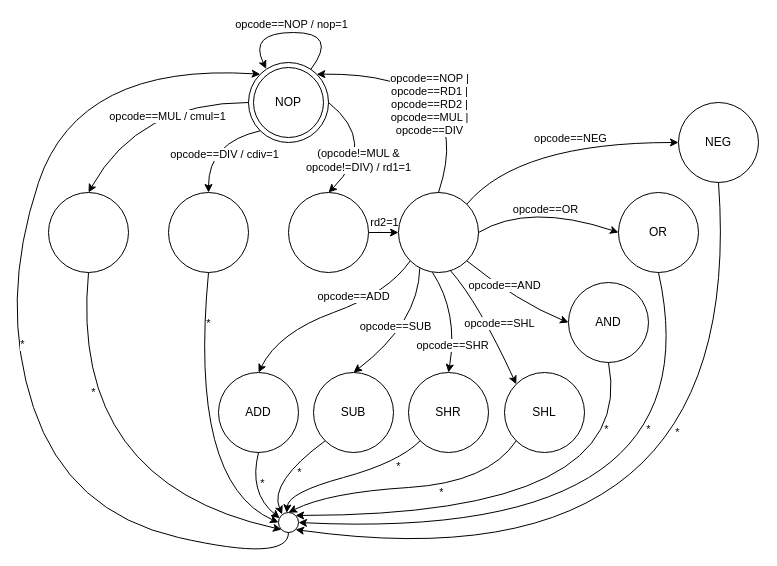
The diagram is 777 pixels wide and 566 high, and some of its shapes have lost their labels. The shapes that lost their labels are listed below. From the top down, each one's box as (x1, y1, x2, y2) in pixels, then its label:
(48, 192, 128, 272): MUL
(168, 192, 248, 272): DIV
(288, 192, 368, 272): RD1
(398, 192, 478, 272): RD2
